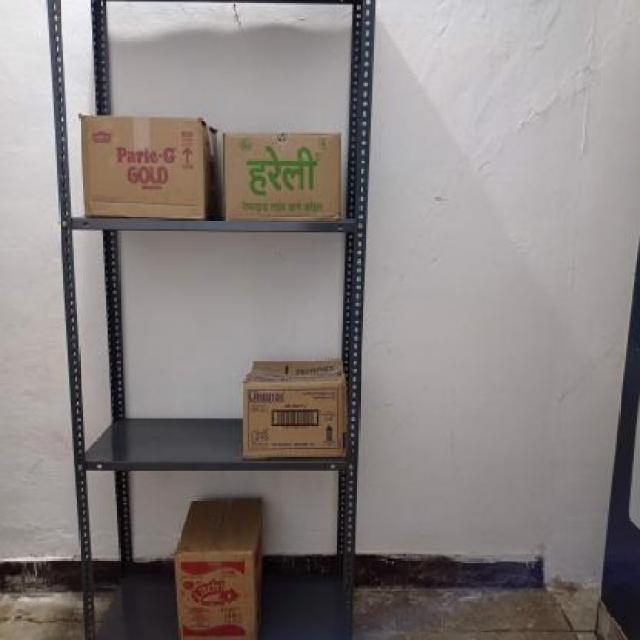box: (76, 114, 207, 218), (222, 131, 344, 224), (242, 378, 350, 464), (175, 551, 254, 640)
